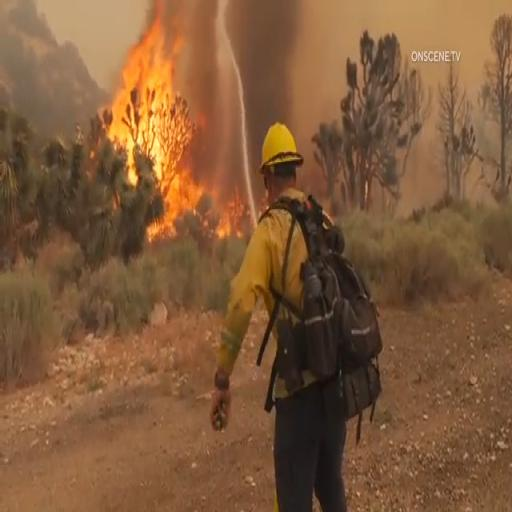fire: (104, 0, 200, 229)
